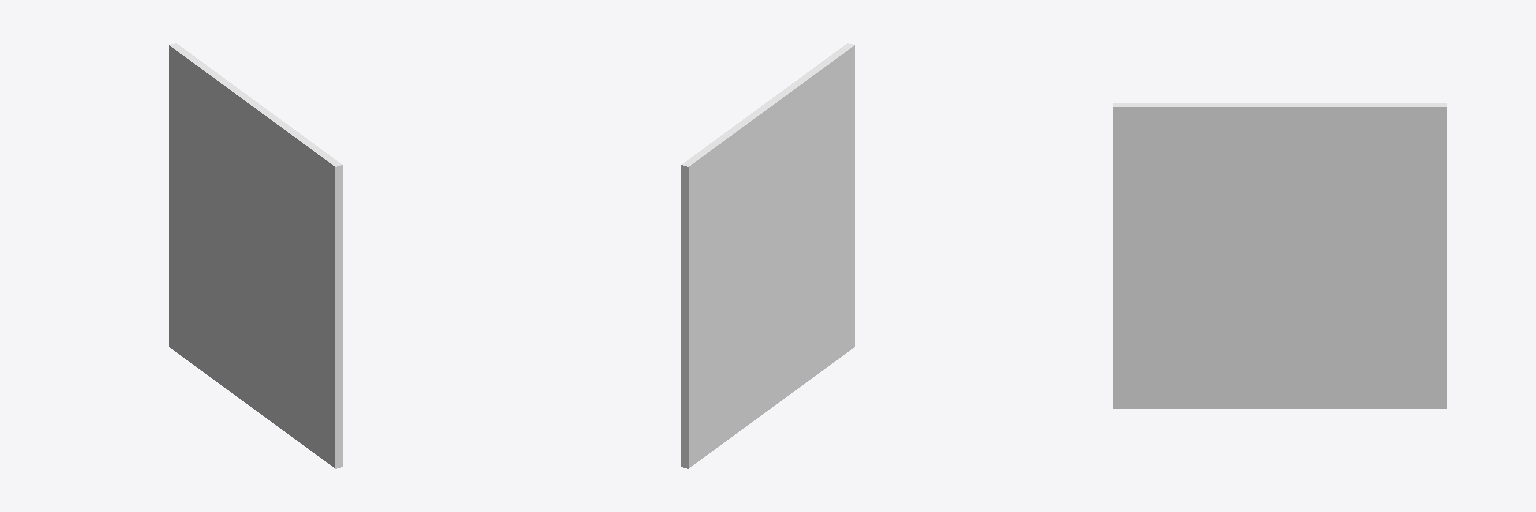
The model's file is KitchenWall(CutCorners).obj.
3 renders of one model, left to right at view 1: azimuth 30°, elevation 25°; view 2: azimuth 150°, elevation 25°; view 3: azimuth 270°, elevation 25°, orthographic.
Parts seen in each view (by area): view 1: object 1; view 2: object 1; view 3: object 1.
Part boxes in pixels (left/top/right/bottom): object 1: left=169, top=43, right=342, bottom=468; object 1: left=681, top=43, right=854, bottom=468; object 1: left=1113, top=103, right=1446, bottom=408.
Bounding box in the file's own units: 0.1 × 3.8 × 3.8.